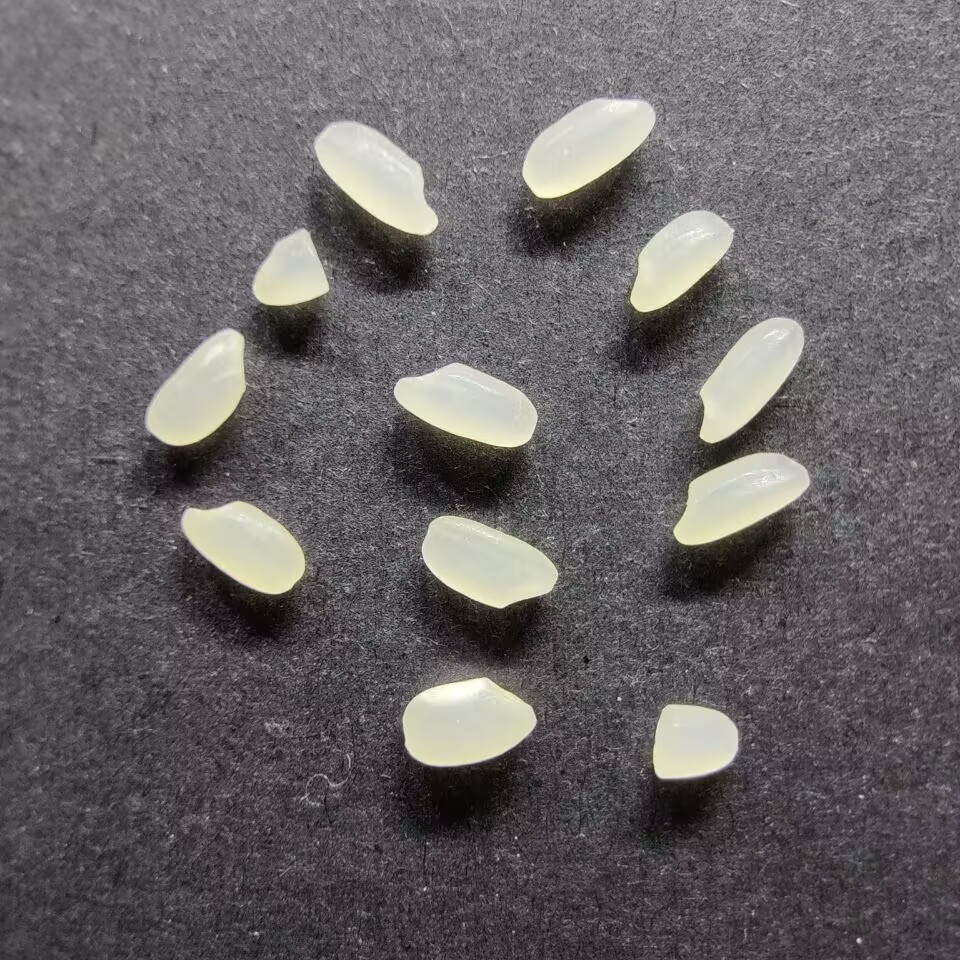broken: (649, 702, 740, 781), (252, 226, 332, 307)
rice: (311, 119, 441, 237), (519, 96, 656, 200), (697, 316, 806, 445), (673, 451, 812, 547), (419, 514, 558, 610), (391, 360, 539, 448), (400, 675, 538, 768), (179, 498, 306, 596), (143, 327, 246, 447), (627, 207, 734, 314)
